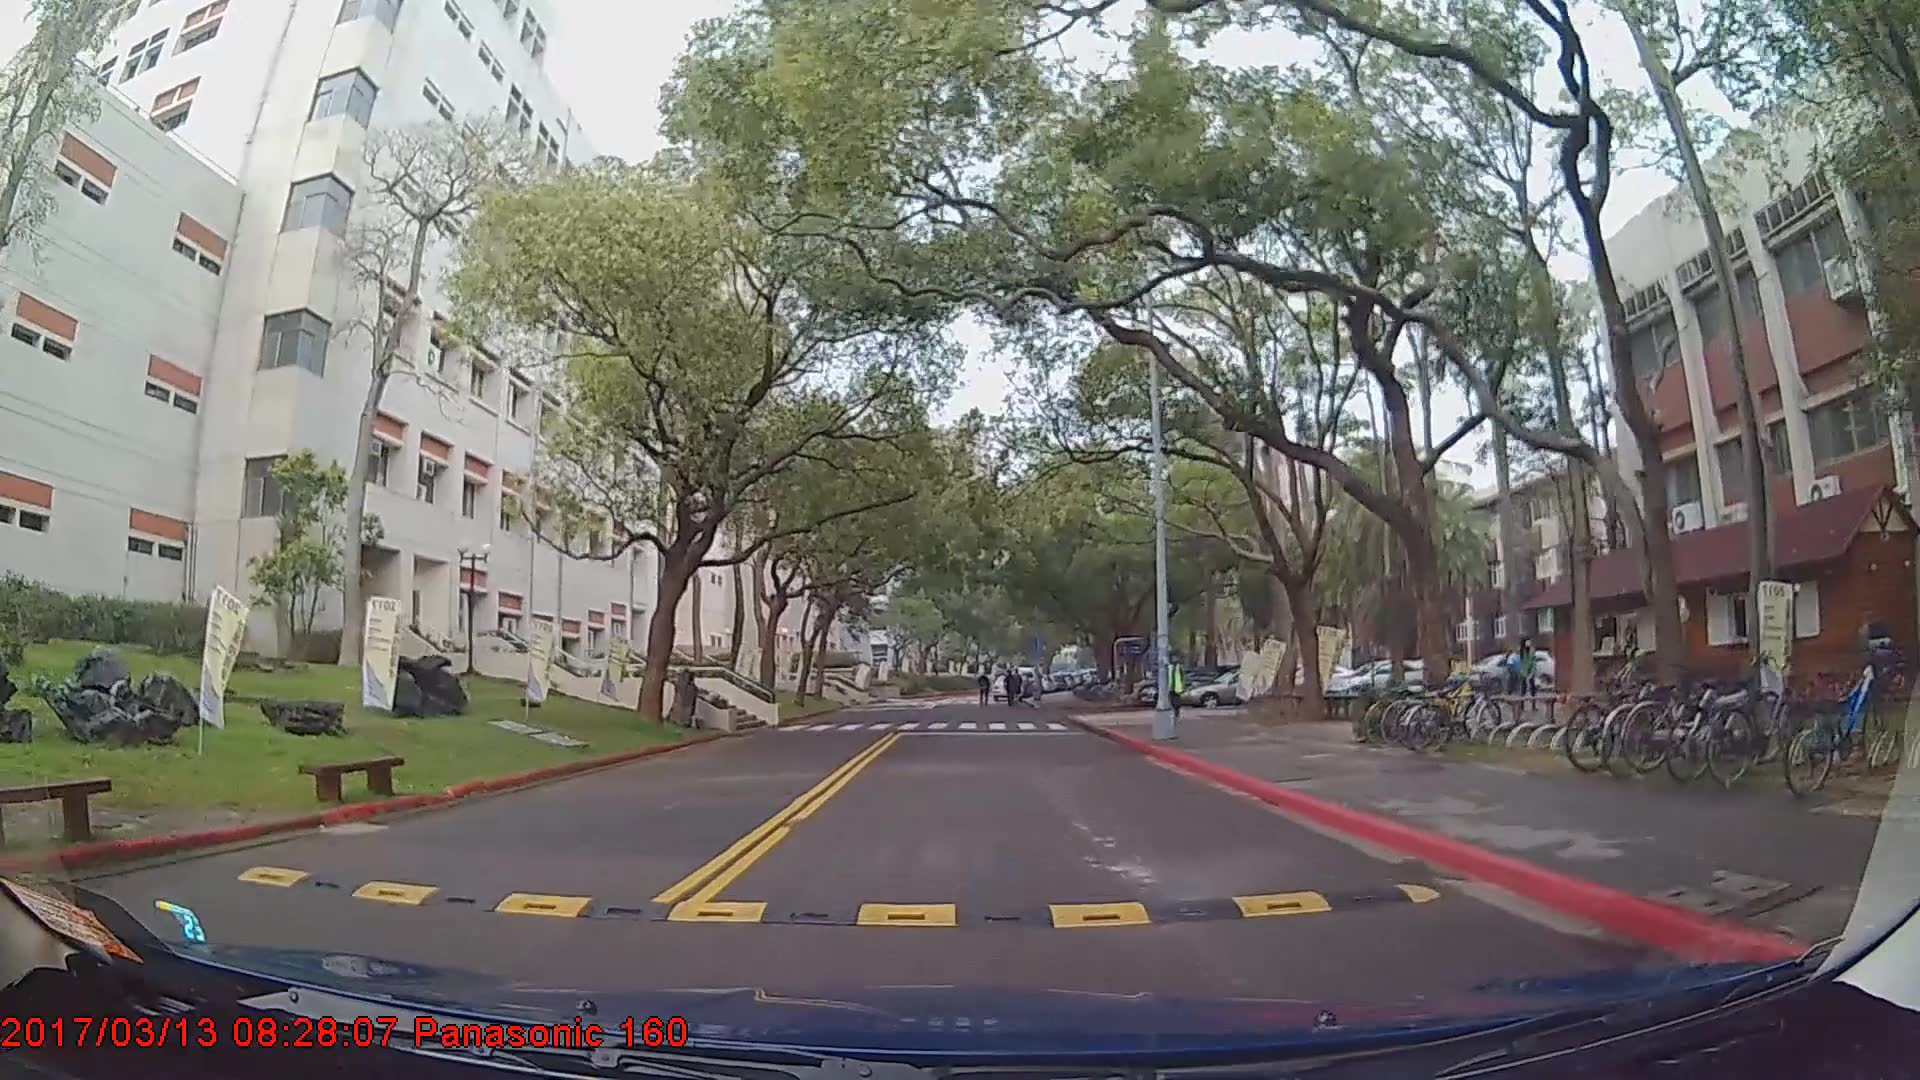vehicle: (1182, 667, 1309, 707), (1325, 659, 1433, 705)
